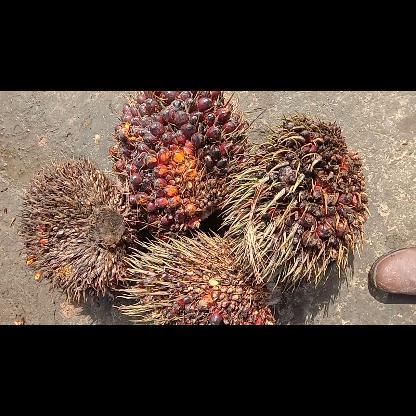Kurang masak: (221, 115, 369, 290)
TBS abnormal: (17, 157, 134, 300), (120, 232, 278, 324)
Terlalu masak: (108, 91, 252, 245)
